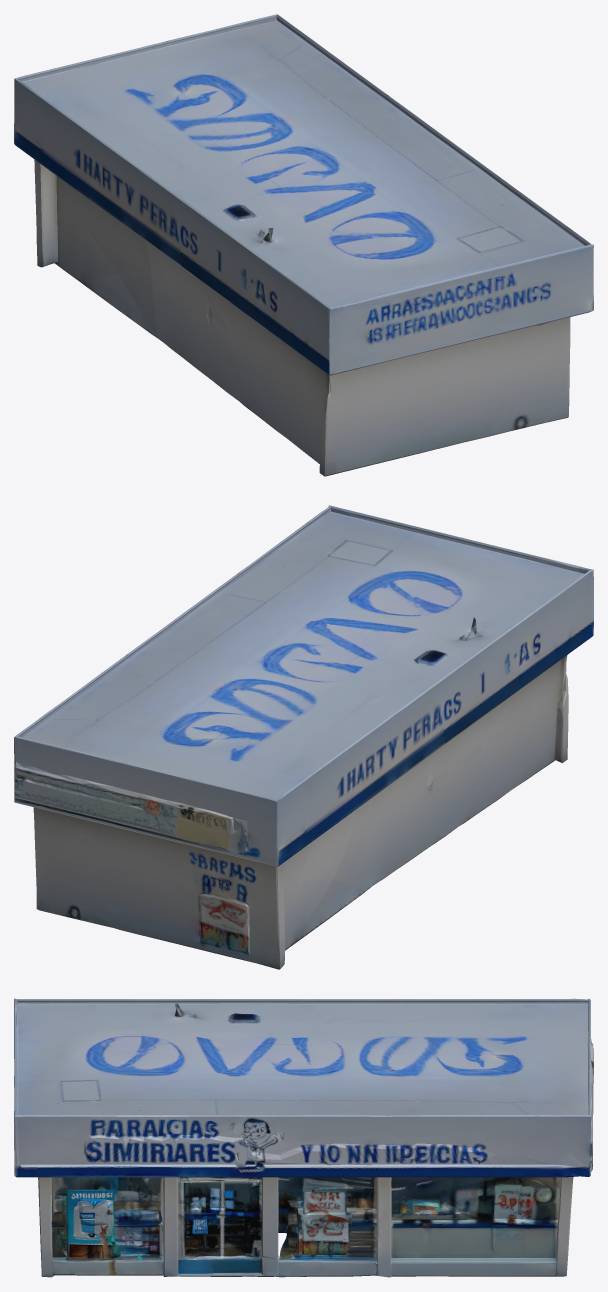
The model's file is farmacia.glb.
The picture shows the model from 3 angles, top to bottom: view 1: azimuth 30°, elevation 25°; view 2: azimuth 150°, elevation 25°; view 3: azimuth 270°, elevation 25°; orthographic projection. The views are drawn at different scales.
Parts seen in each view (by area): view 1: tripo_node_cc81aec3-292e-4549-b6b8-738aae8b48fe; view 2: tripo_node_cc81aec3-292e-4549-b6b8-738aae8b48fe; view 3: tripo_node_cc81aec3-292e-4549-b6b8-738aae8b48fe.
Part boxes in pixels (x1,y1,x2,y2): tripo_node_cc81aec3-292e-4549-b6b8-738aae8b48fe: [14, 14, 593, 476]; tripo_node_cc81aec3-292e-4549-b6b8-738aae8b48fe: [14, 505, 593, 969]; tripo_node_cc81aec3-292e-4549-b6b8-738aae8b48fe: [14, 998, 593, 1277].
Bounding box in the file's own units: 0.4851 × 0.3324 × 0.9994.
1 material, 1 textured.
